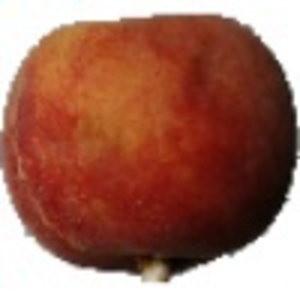pêssego: (1, 1, 300, 286)
